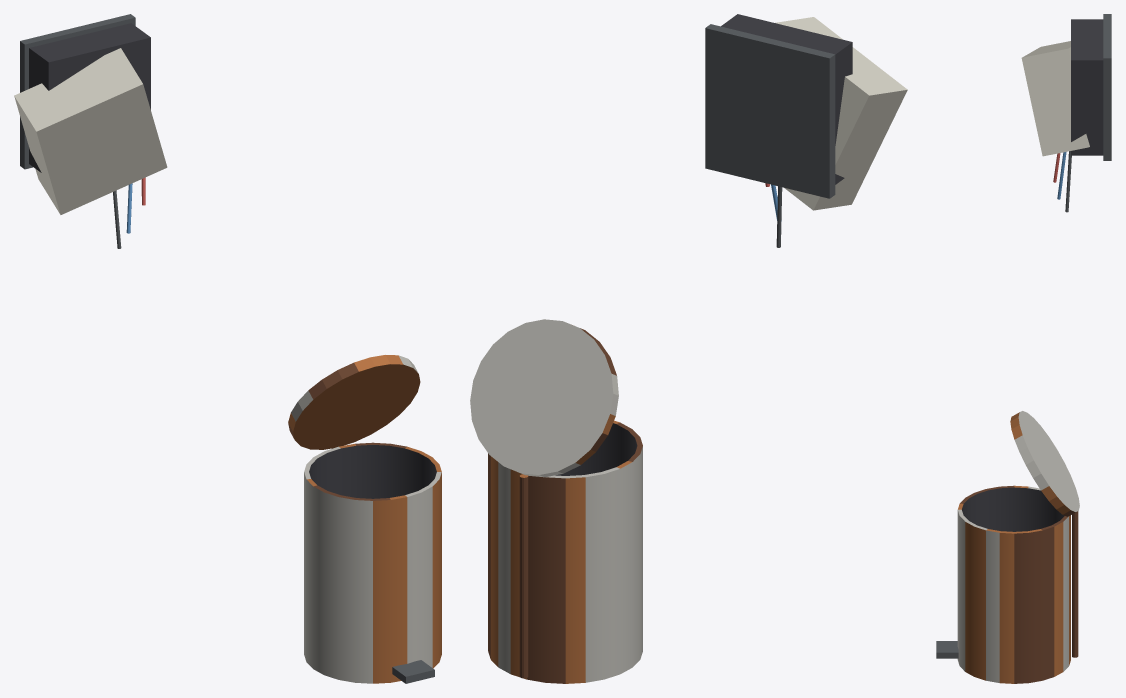
Rendered from toilet_trashcan_v2.fbx.
The picture shows the model from 3 angles, left to right: view 1: azimuth 30°, elevation 25°; view 2: azimuth 150°, elevation 25°; view 3: azimuth 270°, elevation 25°; orthographic projection. The views are drawn at different scales.
Parts seen in each view (by area): view 1: 10_DryerAndBin_Damaged_PedalBin, 10_DryerAndBin_Damaged_HandDryer; view 2: 10_DryerAndBin_Damaged_PedalBin, 10_DryerAndBin_Damaged_HandDryer; view 3: 10_DryerAndBin_Damaged_PedalBin, 10_DryerAndBin_Damaged_HandDryer.
Part boxes in pixels (x1,y1,x2,y2): 10_DryerAndBin_Damaged_PedalBin: [288, 355, 441, 683]; 10_DryerAndBin_Damaged_HandDryer: [14, 14, 167, 248]; 10_DryerAndBin_Damaged_PedalBin: [470, 319, 642, 683]; 10_DryerAndBin_Damaged_HandDryer: [705, 14, 907, 247]; 10_DryerAndBin_Damaged_PedalBin: [936, 411, 1079, 683]; 10_DryerAndBin_Damaged_HandDryer: [1021, 14, 1111, 212].
Bounding box in the file's own units: 89.51 × 144 × 43.25.
